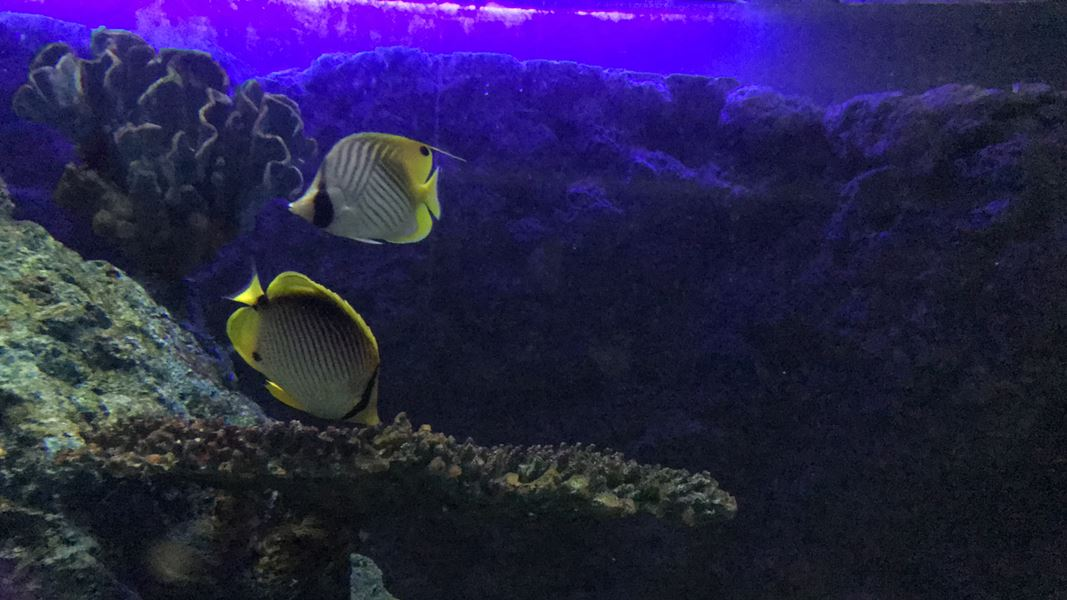Black-backed butterflyfish: (211, 248, 393, 443)
